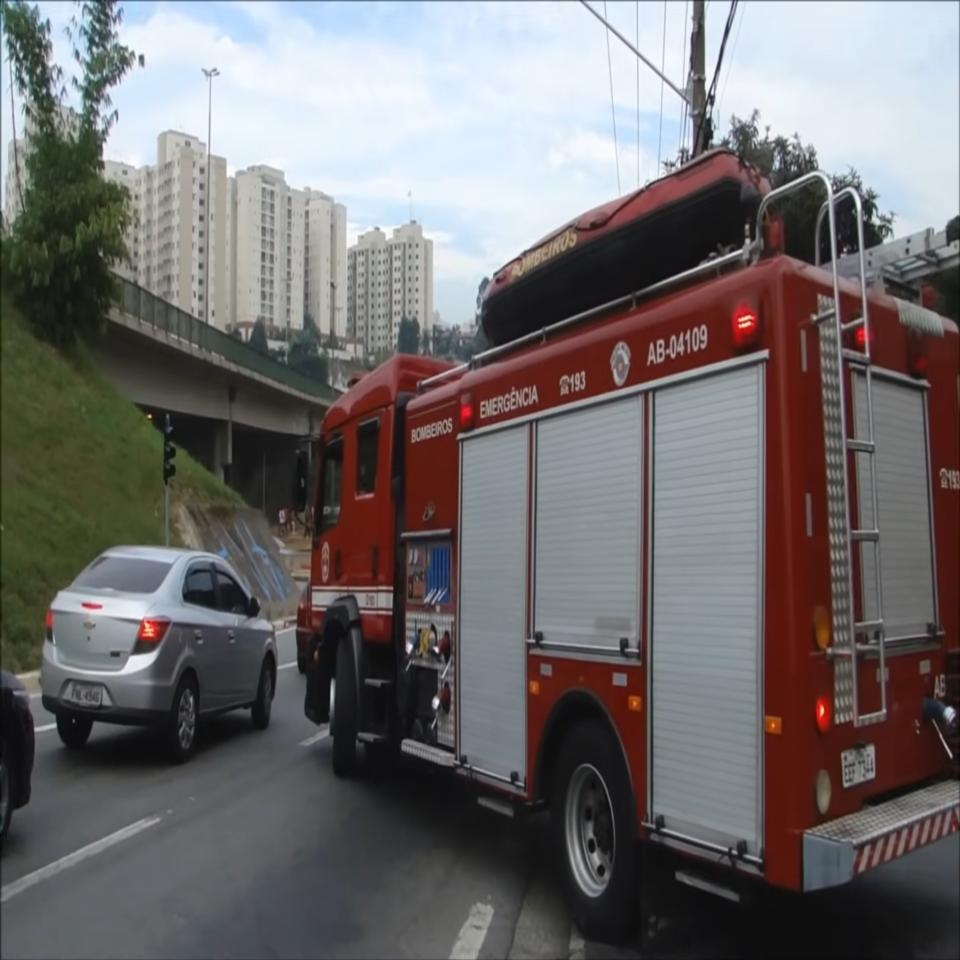viatura: (285, 149, 960, 939)
